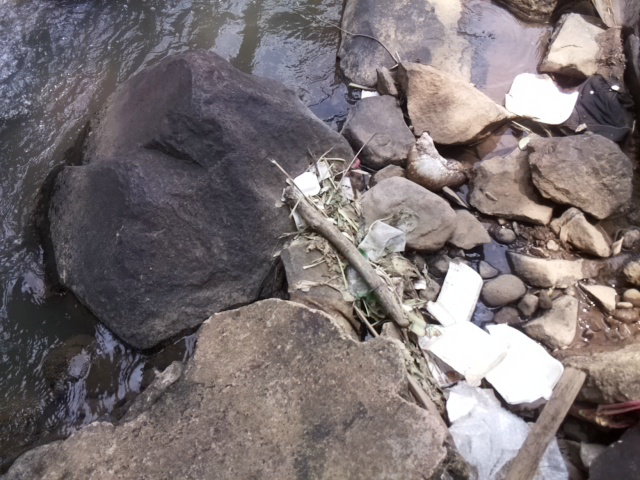Sampah_Styrofoam: (422, 258, 574, 415), (504, 67, 583, 127)
